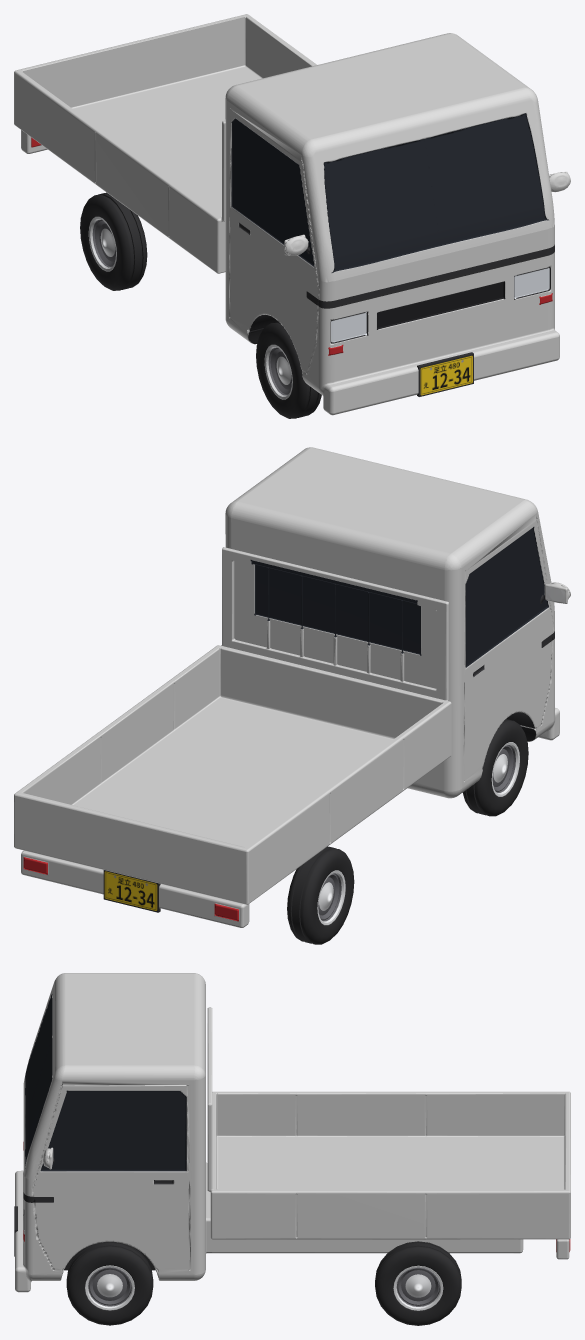
The model's file is traffic_kei.fbx.
3 views of the same model, one above another, from view 1: azimuth 30°, elevation 25°; view 2: azimuth 150°, elevation 25°; view 3: azimuth 270°, elevation 25° (orthographic). The views are drawn at different scales.
Visible parts, largest first — view 1: Body, Wheel_RR, Wheel_FR; view 2: Body, Wheel_RR, Wheel_FR; view 3: Body, Wheel_RL, Wheel_FL.
Part boxes in pixels (x1=…): Body: x1=14, y1=14, x2=570, y2=415; Wheel_RR: x1=80, y1=192, x2=147, y2=290; Wheel_FR: x1=256, y1=321, x2=321, y2=418; Body: x1=14, y1=447, x2=570, y2=927; Wheel_RR: x1=287, y1=846, x2=354, y2=944; Wheel_FR: x1=462, y1=719, x2=528, y2=816; Body: x1=14, y1=973, x2=570, y2=1292; Wheel_RL: x1=375, y1=1241, x2=461, y2=1325; Wheel_FL: x1=66, y1=1241, x2=153, y2=1325.
Bounding box in the file's own units: 1.79 × 1.76 × 3.44.
Materials: 11 (1 with a texture image).
